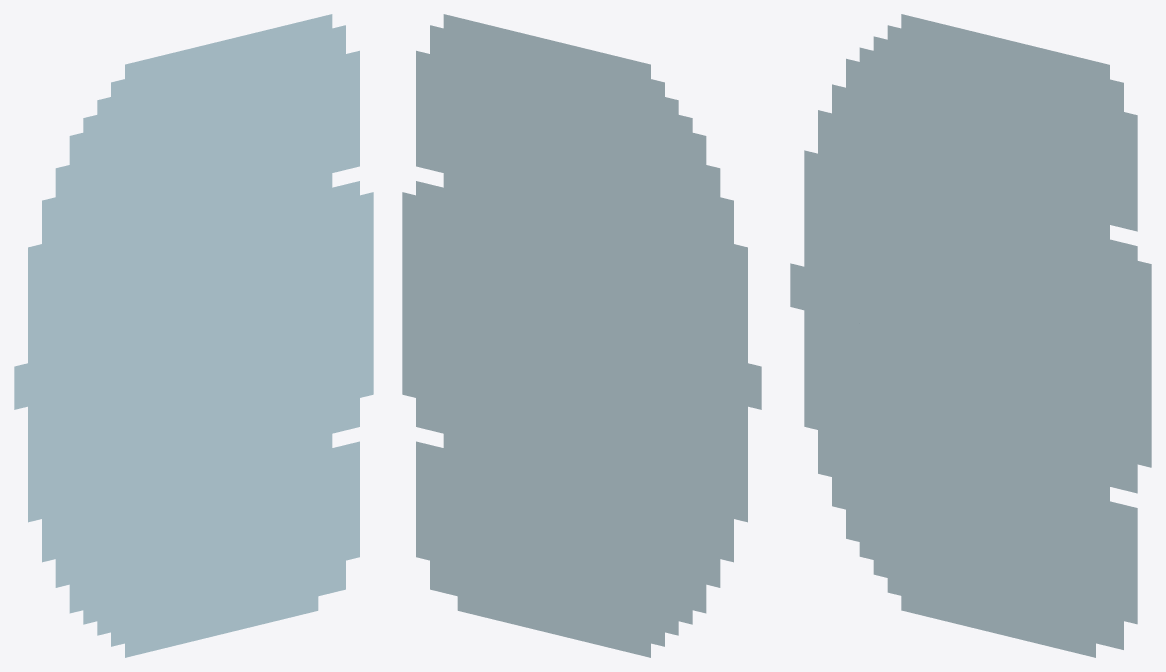
Rendered from wp_water_235.obj.
The picture shows the model from 3 angles, left to right: view 1: azimuth 30°, elevation 25°; view 2: azimuth 150°, elevation 25°; view 3: azimuth 330°, elevation 25°; orthographic projection.
Size of the model in its own units: 0.39 by 0.615 by 0.
1 material, 1 textured.
